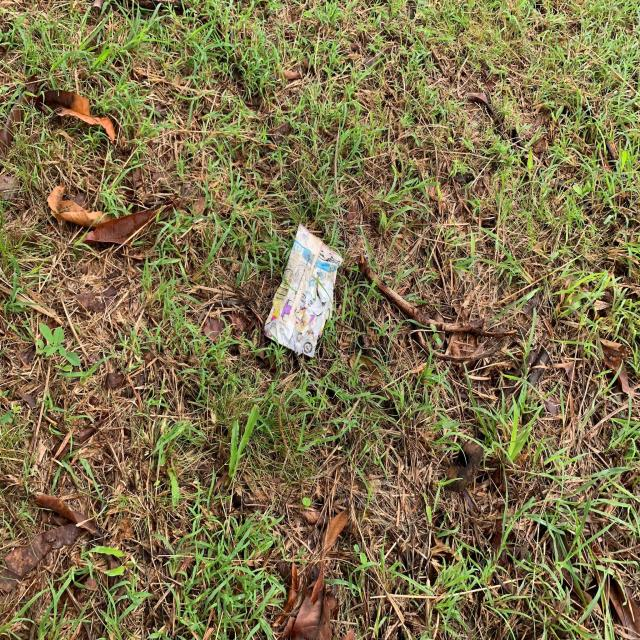litter: (264, 223, 344, 358)
